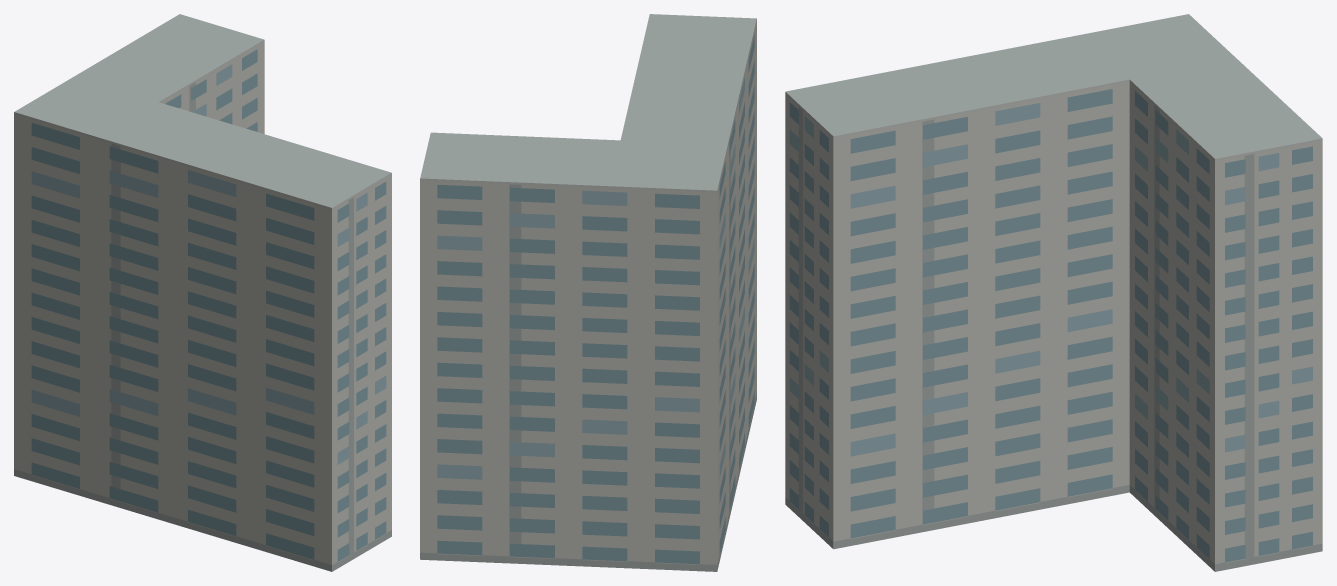
Rendered from residential-ee1c451a-ac68-4953-8724-87de6773302b.glb.
3 renders of one model, left to right at view 1: azimuth 30°, elevation 25°; view 2: azimuth 150°, elevation 25°; view 3: azimuth 270°, elevation 25°, orthographic. The views are drawn at different scales.
Parts seen in each view (by area): view 1: residential-ee1c451a-ac68-4953-8724-87de6773302b.tmp; view 2: residential-ee1c451a-ac68-4953-8724-87de6773302b.tmp; view 3: residential-ee1c451a-ac68-4953-8724-87de6773302b.tmp.
Part boxes in pixels (<box>): residential-ee1c451a-ac68-4953-8724-87de6773302b.tmp: <box>14,14,391,571</box>; residential-ee1c451a-ac68-4953-8724-87de6773302b.tmp: <box>420,14,756,571</box>; residential-ee1c451a-ac68-4953-8724-87de6773302b.tmp: <box>785,14,1322,571</box>.
Size of the model in its own units: 31.64 by 42 by 49.55.
